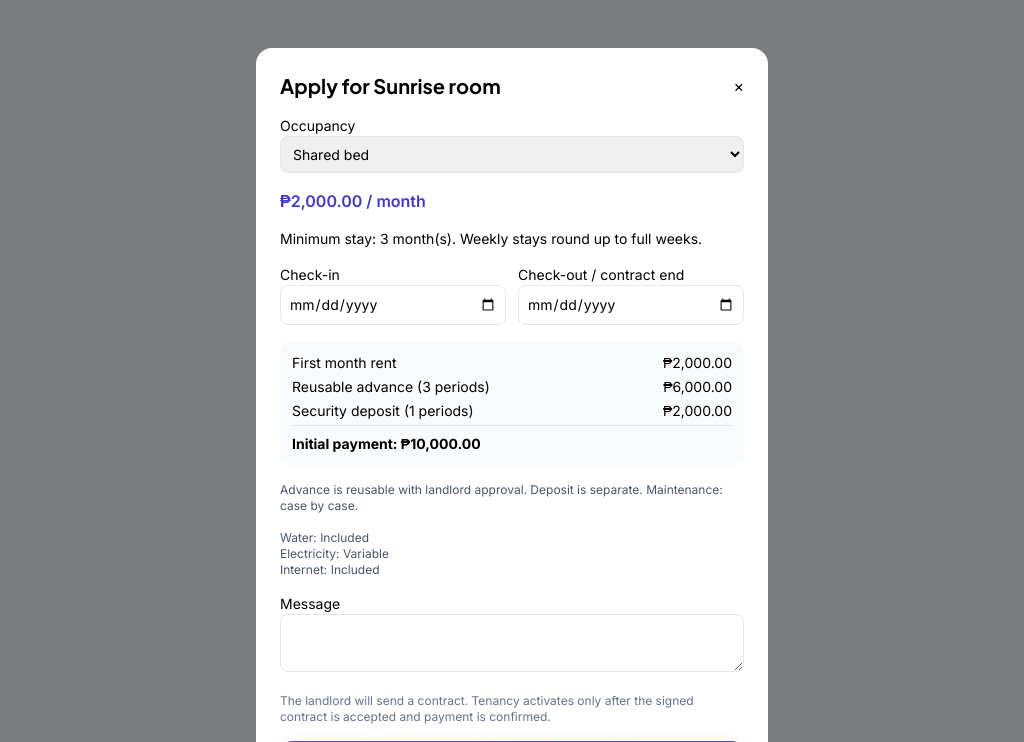
it: seeker sees shared and whole-room initial totals before submitting
Expected: the text "Initial payment: ₱10,000.00" is shown, [292, 425, 732, 454]
Step 1. Select "Exclusive whole room" in the dropdown labelled "Occupancy" → x=512, y=154, box [280, 136, 744, 173]
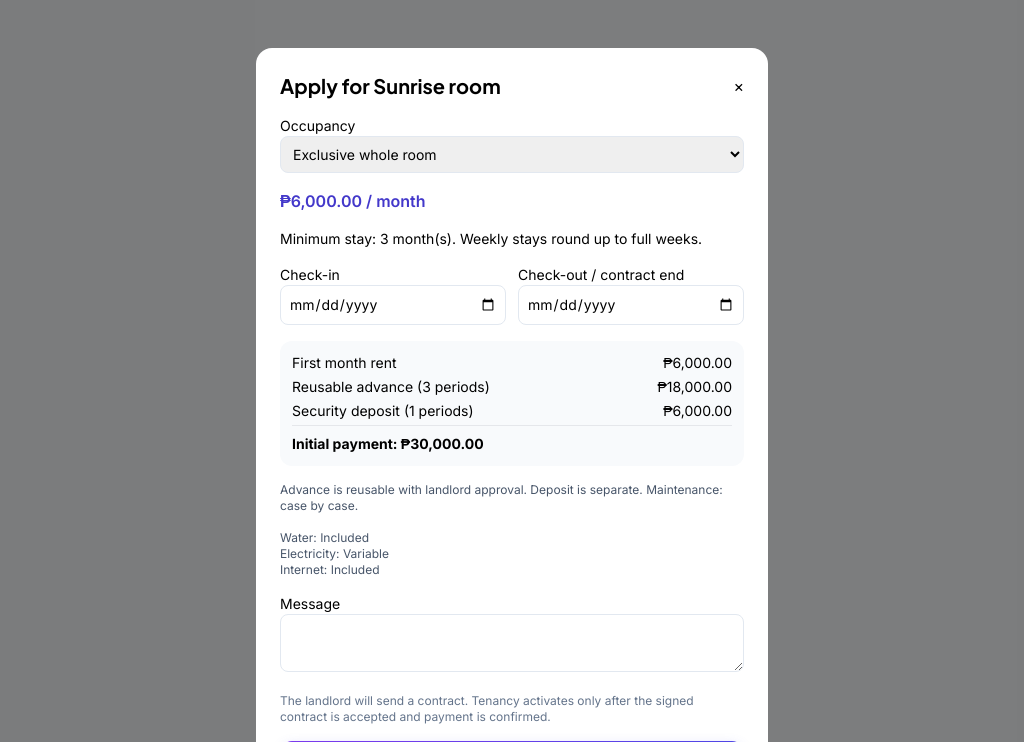
Expected: the text "Minimum stay:" shows "3 month", [280, 229, 744, 249]
Expected: the text "Initial payment: ₱30,000.00" is shown, [292, 425, 732, 454]
